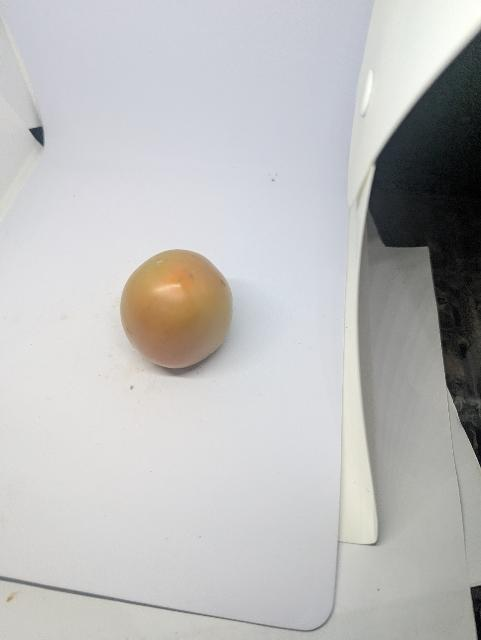turning: (116, 245, 239, 378)
